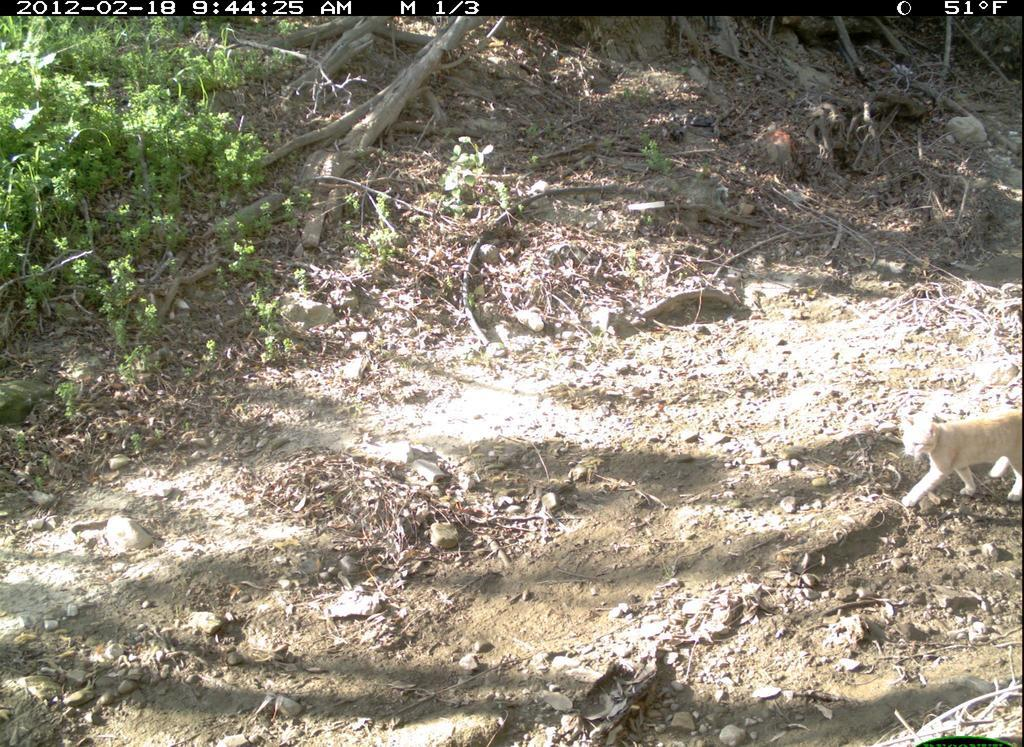cat: (890, 393, 1022, 520)
